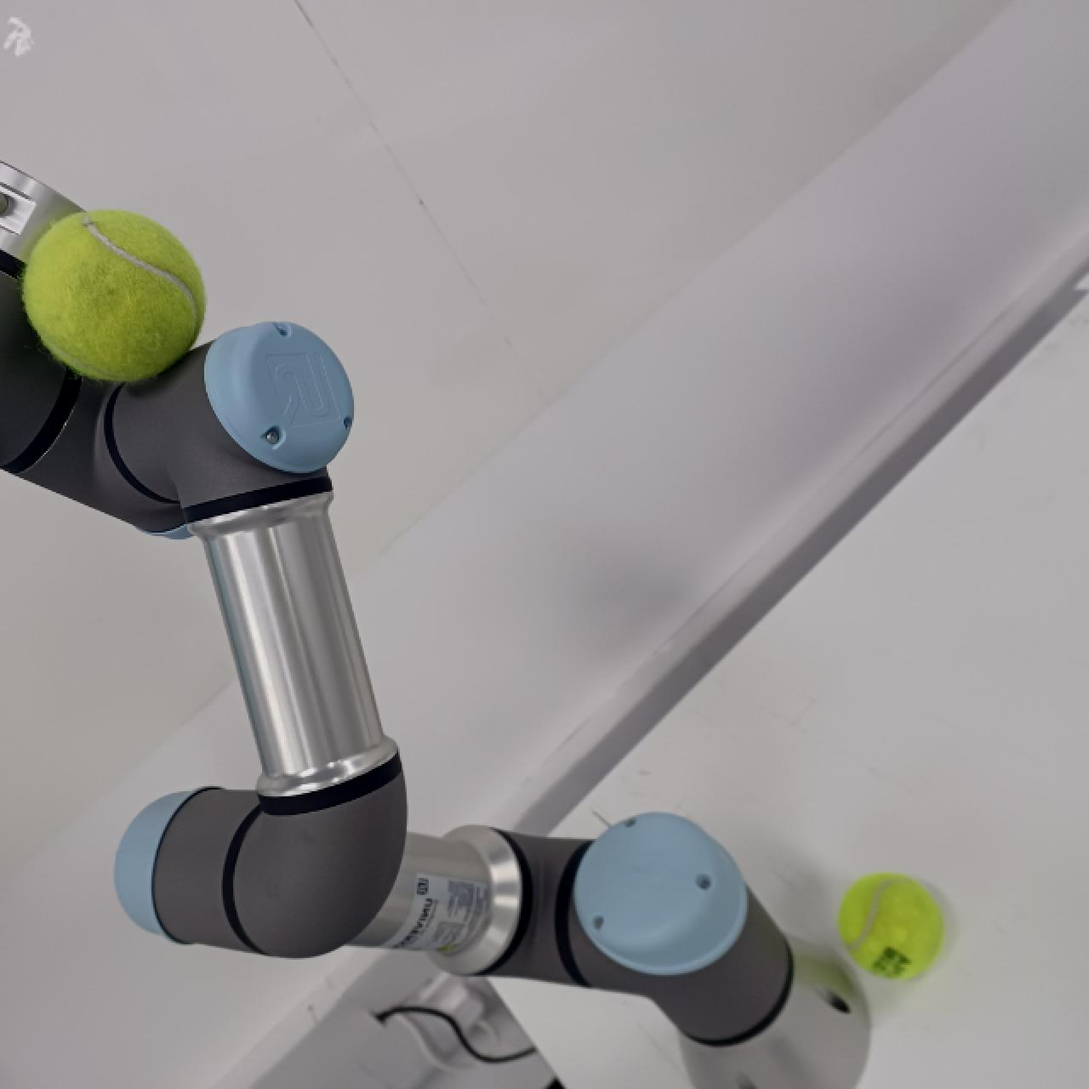tennis-ball: (19, 210, 209, 390), (840, 872, 947, 984)
